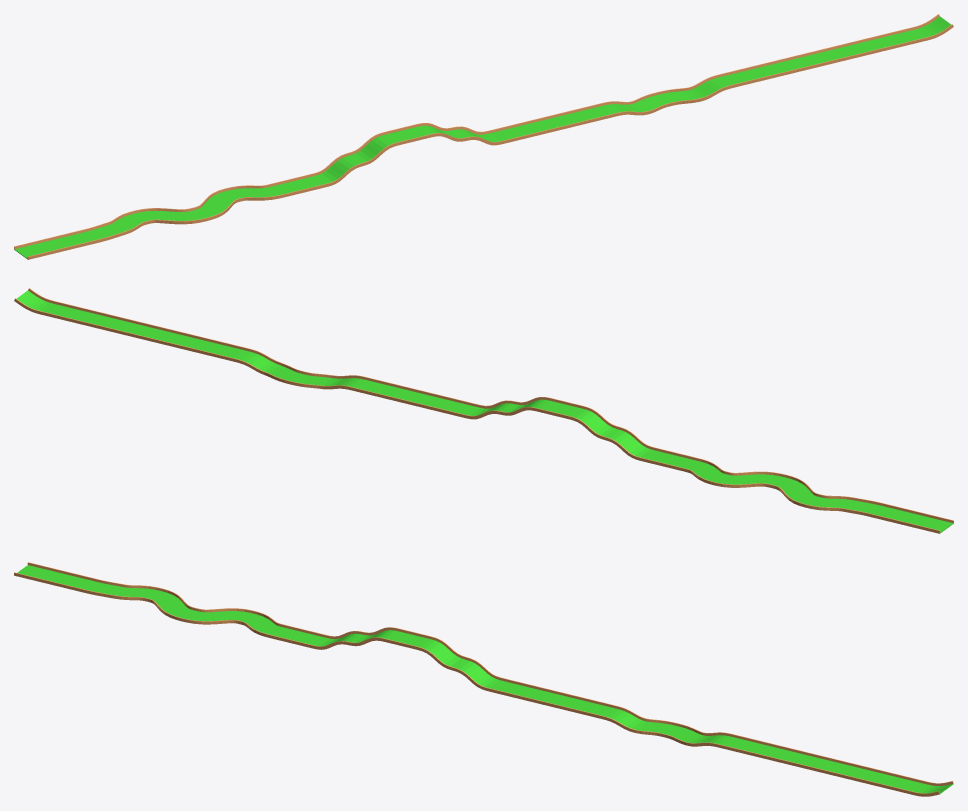
File: m-golf-hole-2.glb
3 renders of one model, top to bottom at view 1: azimuth 30°, elevation 25°; view 2: azimuth 150°, elevation 25°; view 3: azimuth 330°, elevation 25°, orthographic.
Parts seen in each view (by area): view 1: 2_Track_Visual; view 2: 2_Track_Visual; view 3: 2_Track_Visual.
Boxes of the visible parts, x1,y1,x2,y2 form: 2_Track_Visual: [14, 14, 953, 259]; 2_Track_Visual: [14, 288, 953, 533]; 2_Track_Visual: [14, 562, 953, 796].
Size of what is drawn, in the model's own units: 80.21 by 2.77 by 3.89.
